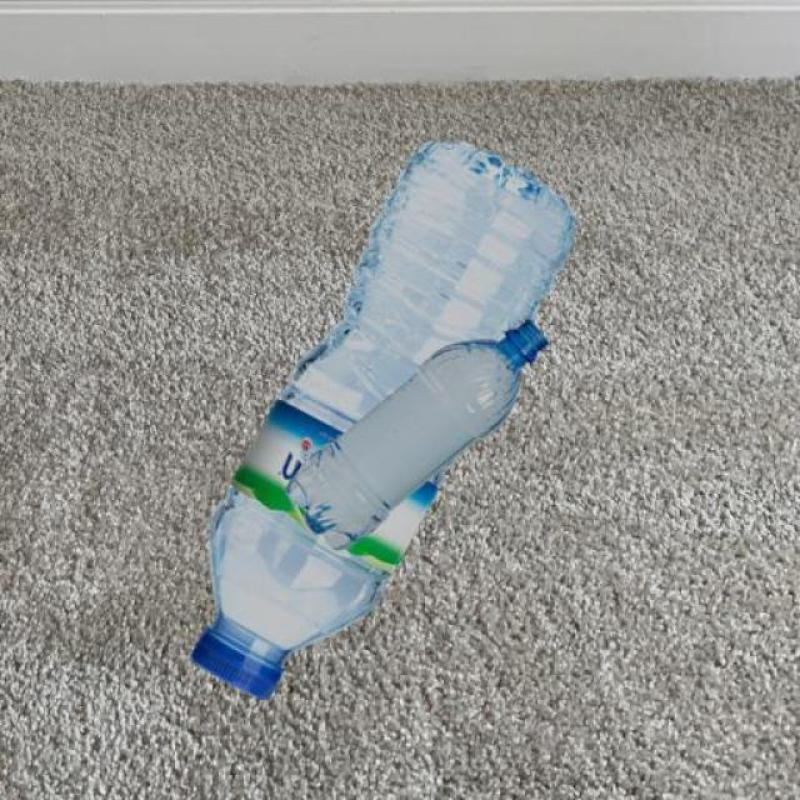botella: (188, 137, 582, 698), (288, 322, 548, 546)
